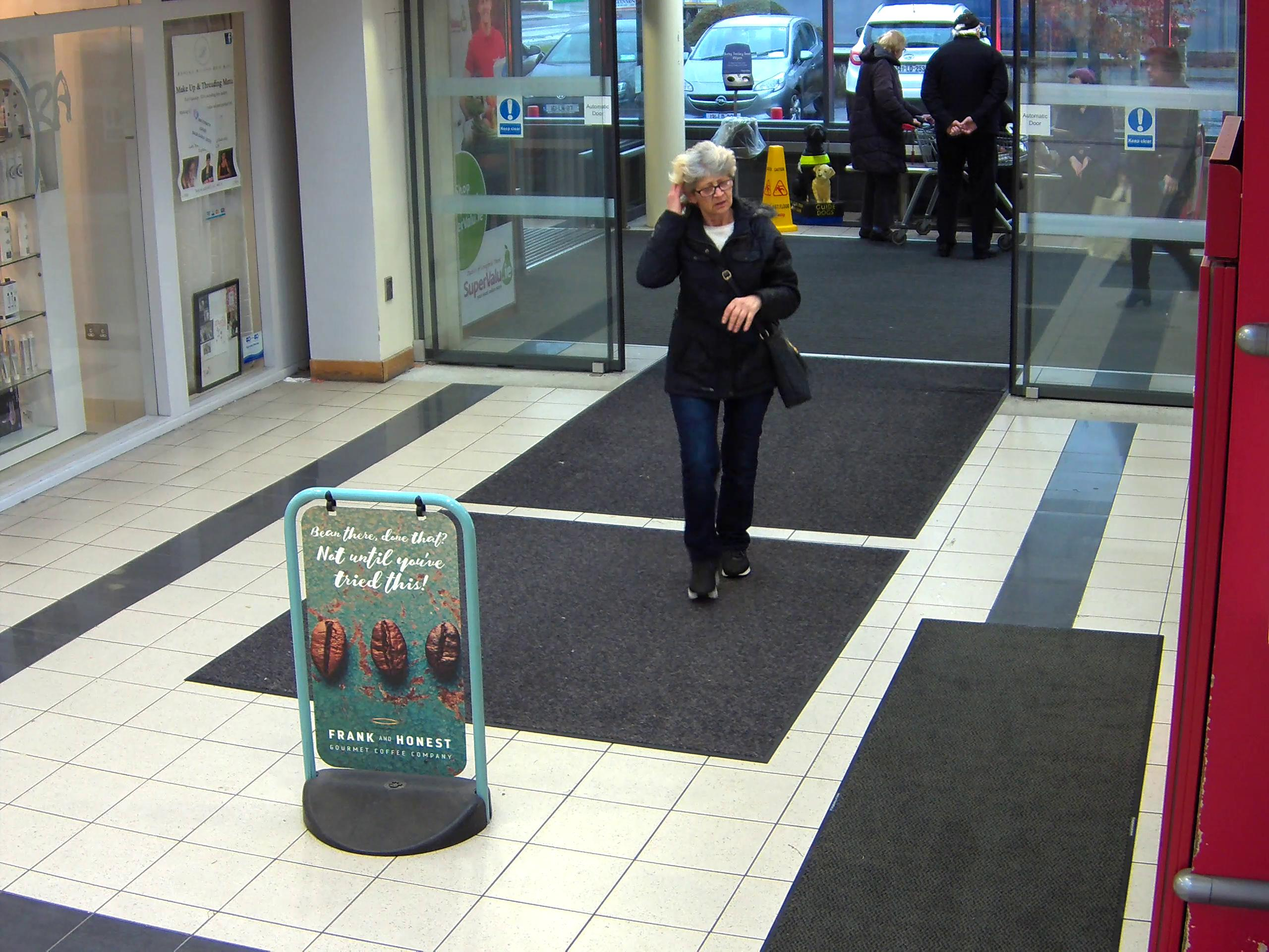backpack-or-handbag: (759, 316, 814, 410)
person: (636, 141, 798, 602)
person-with-backpack-handbag: (636, 138, 814, 602)
